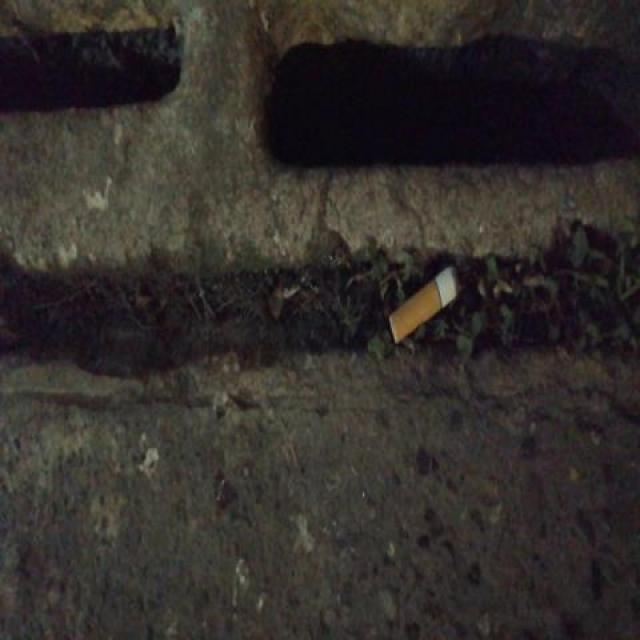non-organic waste: (384, 262, 468, 346)
